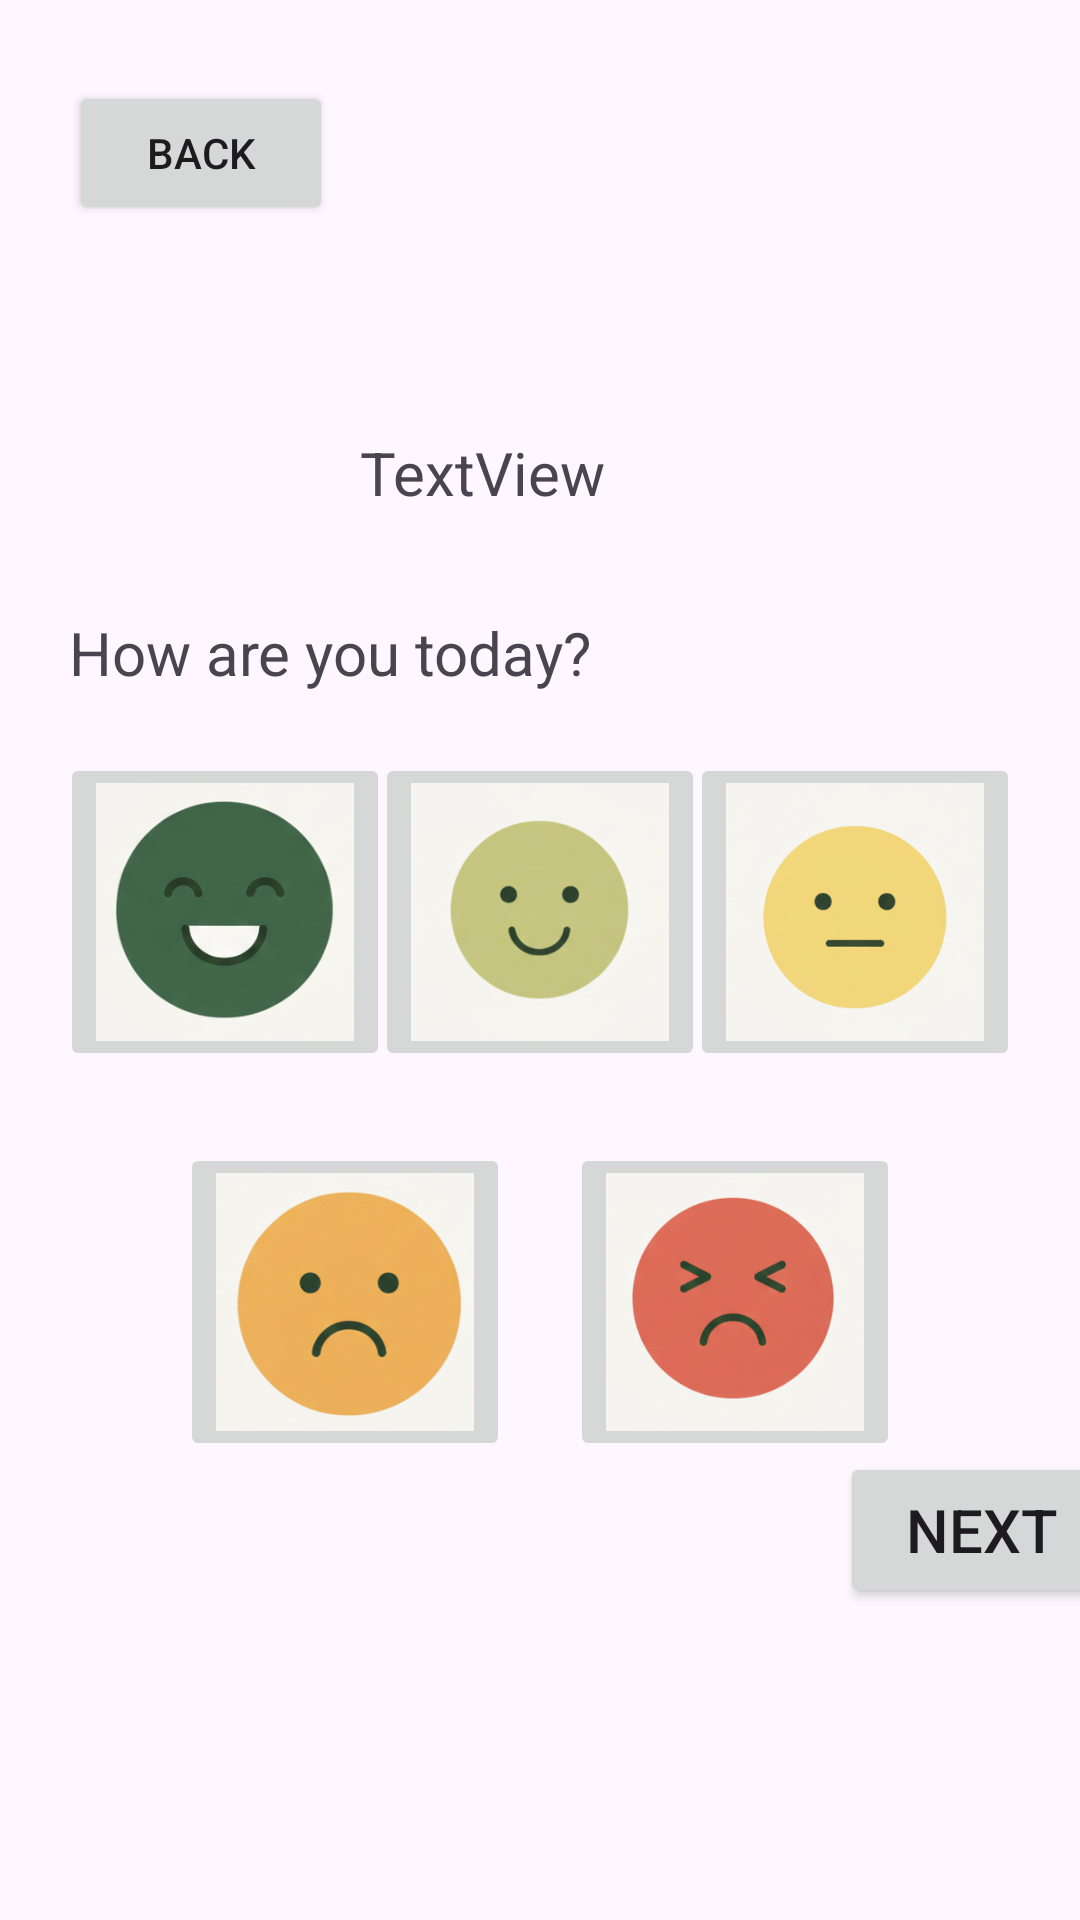

Icons on this 1080x1920 Android screen, each with the point to tap as (x=x, y=y):
choose bad: (x=345, y=1302)
choose depressed: (x=735, y=1302)
choose good: (x=540, y=912)
choose joy: (x=225, y=912)
choose ok: (x=855, y=912)
